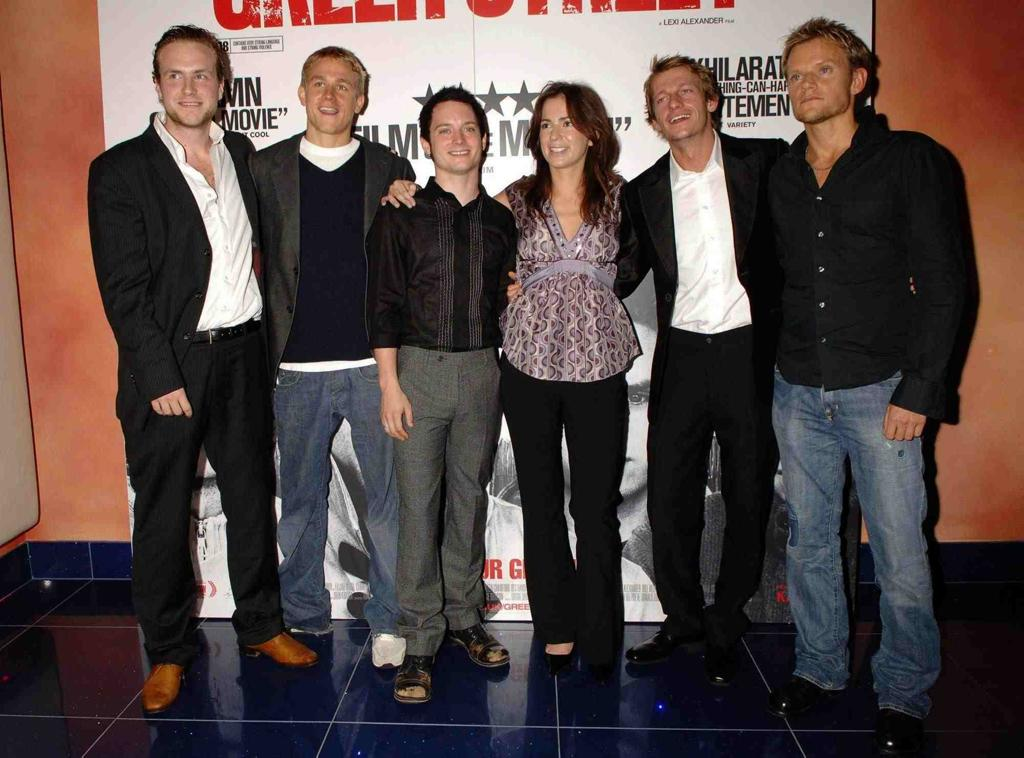face: (785, 41, 850, 121), (159, 42, 218, 125), (650, 69, 705, 139), (305, 61, 356, 133), (429, 103, 482, 170), (540, 99, 588, 167)
